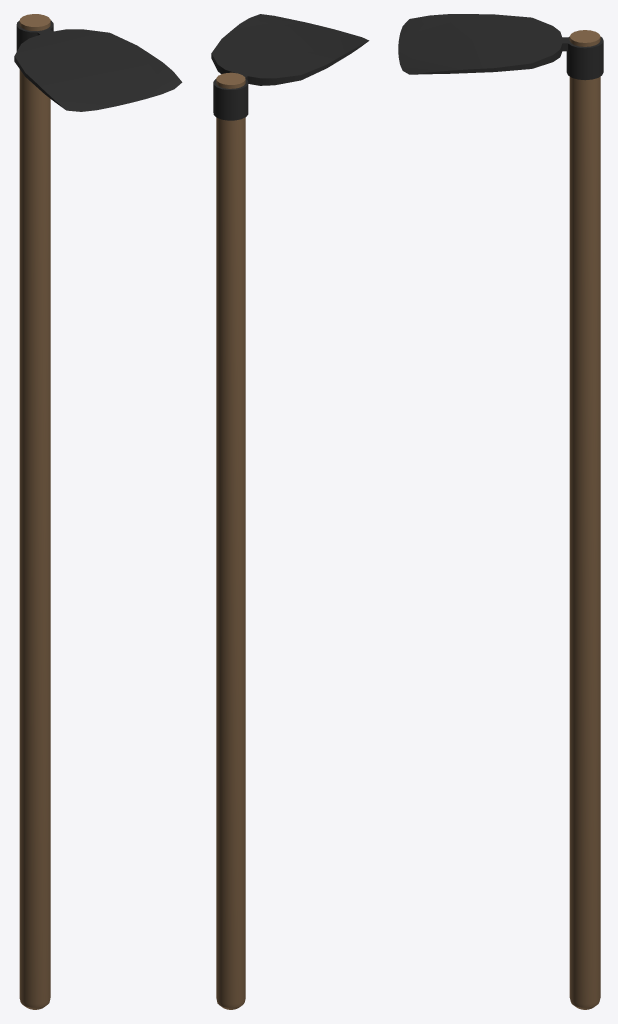
File: hoe.fbx
3 views of the same model, side by side, from view 1: azimuth 30°, elevation 25°; view 2: azimuth 150°, elevation 25°; view 3: azimuth 270°, elevation 25° (orthographic). The views are drawn at different scales.
Visible parts, largest first — view 1: Hoe; view 2: Hoe; view 3: Hoe.
Boxes of the visible parts, box(x1,y1,x2,y2) form: Hoe: box(14, 14, 182, 1009); Hoe: box(211, 14, 369, 1009); Hoe: box(398, 14, 603, 1009).
Bounding box in the file's own units: 19.43 × 155 × 29.62.
